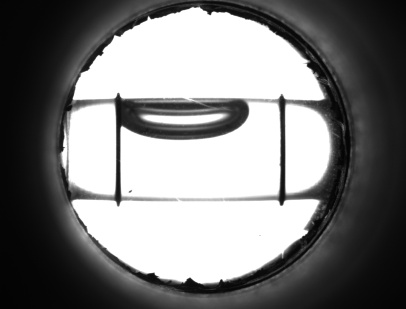line: (276, 114, 289, 186), (112, 140, 125, 188)
